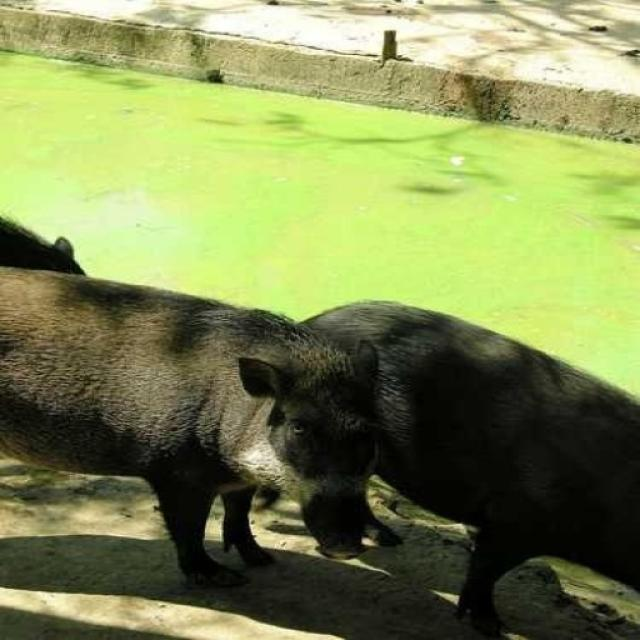pig: (0, 189, 406, 570), (284, 228, 632, 543)
